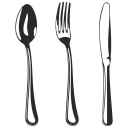fork: (50, 3, 92, 124)
